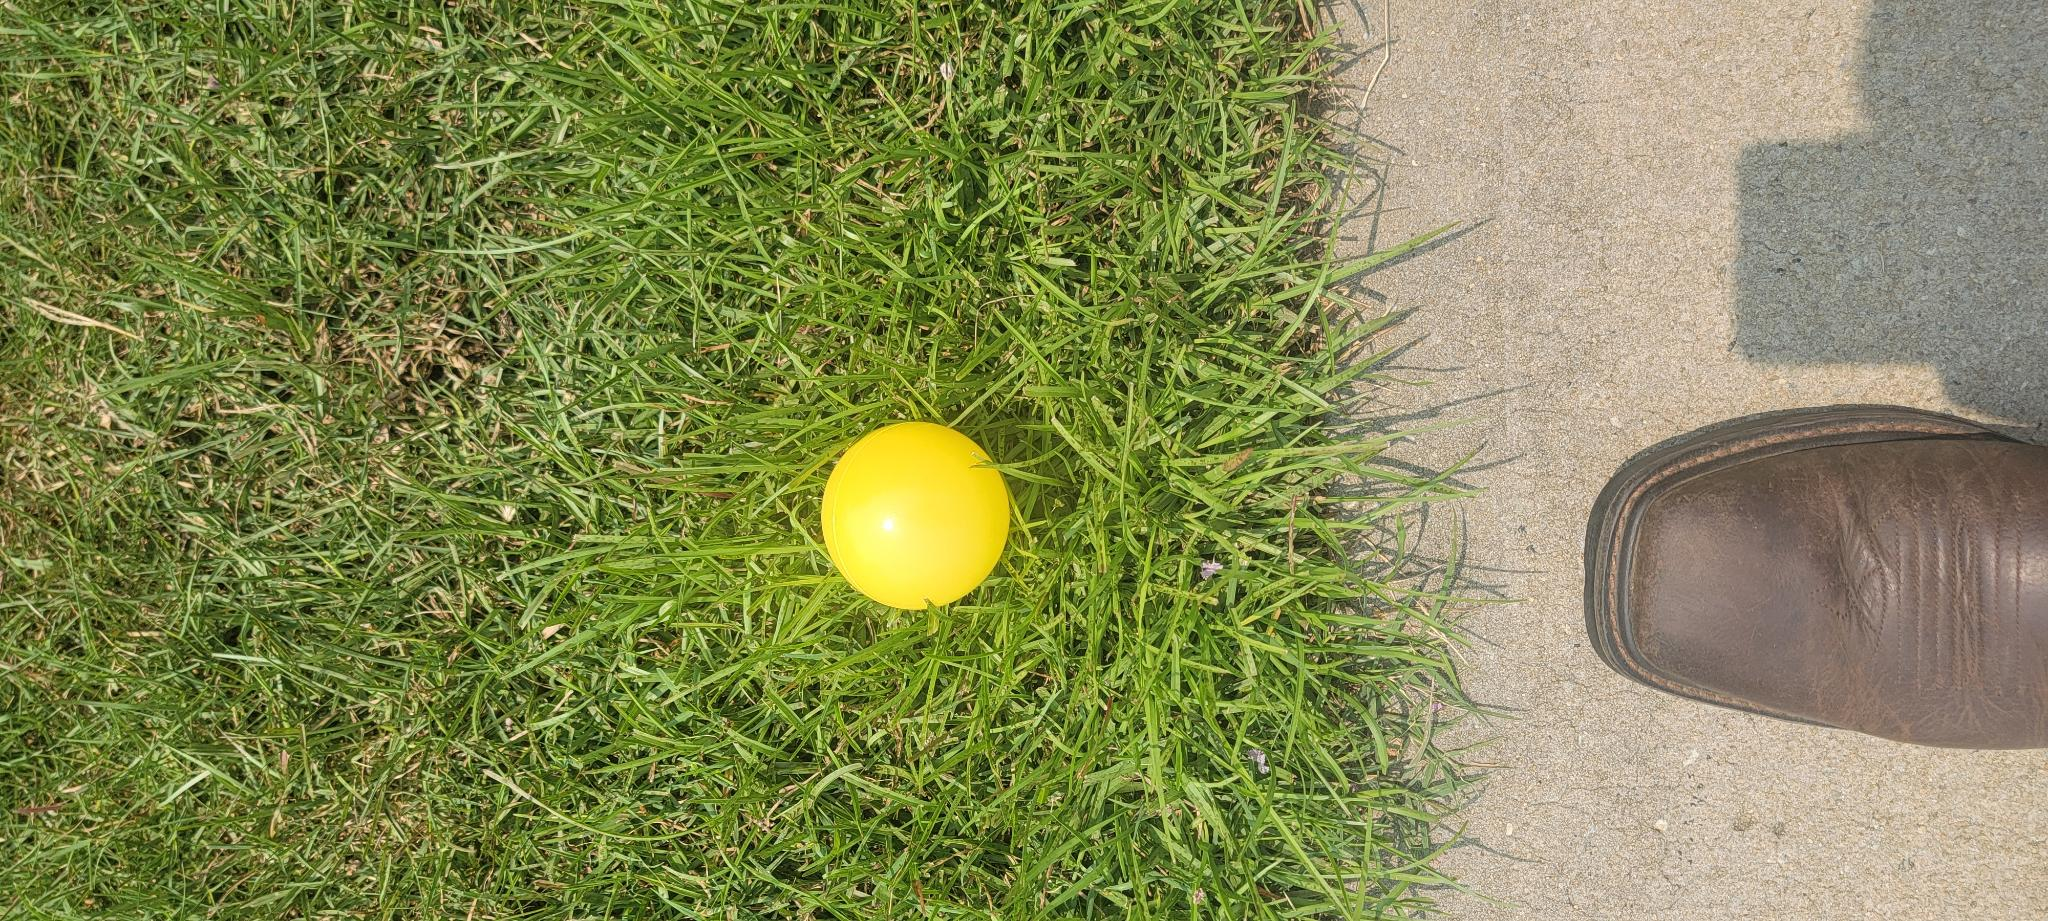Yellow-Ball: (312, 819, 502, 921)
